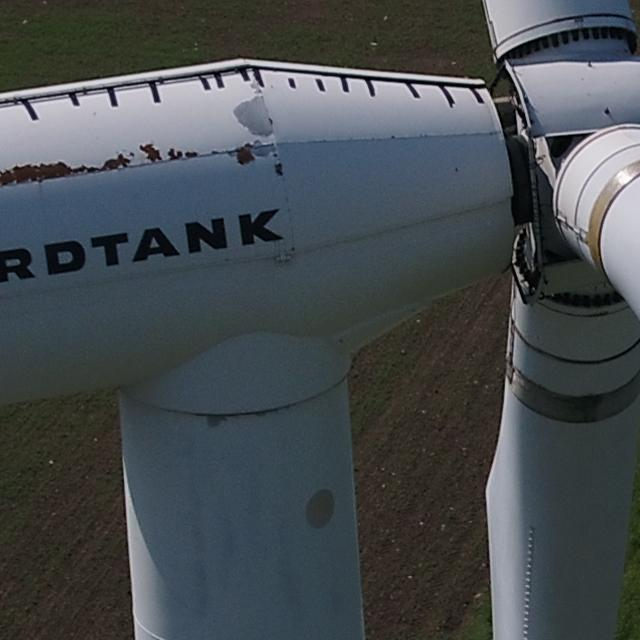damage: (1, 149, 132, 193), (518, 523, 539, 633), (232, 97, 279, 138), (134, 139, 162, 164), (231, 142, 255, 166), (252, 137, 277, 159), (165, 144, 183, 164), (274, 160, 285, 180), (184, 148, 200, 161)
